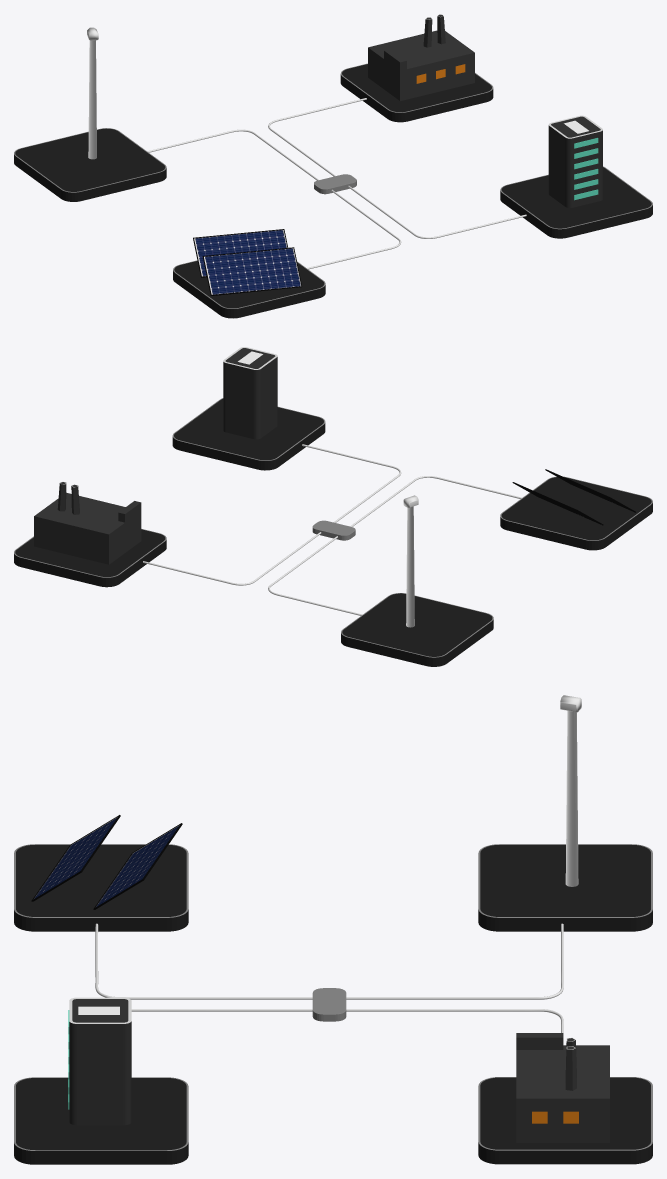
3 renders of one model, top to bottom at view 1: azimuth 30°, elevation 25°; view 2: azimuth 150°, elevation 25°; view 3: azimuth 270°, elevation 25°, orthographic. The views are drawn at different scales.
Parts seen in each view (by area): view 1: Cube.004, Cube.006, Cube.002, Cube.003, Object_2, Cube.005, Cube.001, Object_2.001, Windturbine Support, Cube.007, BézierCurve.003, BézierCurve (+2 smaller); view 2: Cube.004, Cube.001, Cube.006, Cube.002, Cube.003, Cube.005, Windturbine Support, Cube.007, BézierCurve.001; view 3: Cube.004, Cube.001, Cube.002, Cube.006, Cube.005, Cube.003, Windturbine Support, Object_2.001, Object_2, Cube.007, BézierCurve, BézierCurve.002 (+1 smaller).
Part boxes in pixels (box(x1,y1,x2,y2)): Cube.004: box(14, 128, 166, 201); Cube.006: box(368, 14, 474, 100); Cube.002: box(500, 166, 652, 238); Cube.003: box(548, 115, 602, 207); Object_2: box(202, 247, 302, 295); Cube.005: box(340, 63, 493, 122); Cube.001: box(173, 260, 325, 318); Object_2.001: box(193, 229, 288, 277); Windturbine Support: box(87, 27, 98, 159); Cube.007: box(314, 174, 356, 194); BézierCurve.003: box(348, 186, 526, 238); BézierCurve: box(147, 129, 318, 180); Cube.004: box(341, 593, 493, 666); Cube.001: box(500, 476, 652, 550); Cube.006: box(34, 481, 141, 564); Cube.002: box(172, 398, 325, 470); Cube.003: box(223, 347, 277, 439); Cube.005: box(14, 529, 166, 587); Windturbine Support: box(403, 495, 418, 627); Cube.007: box(312, 520, 355, 540); BézierCurve.001: box(143, 532, 321, 585); Cube.004: box(478, 844, 652, 931); Cube.001: box(14, 844, 188, 931); Cube.002: box(14, 1077, 188, 1164); Cube.006: box(516, 1033, 609, 1142); Cube.005: box(478, 1077, 652, 1164); Cube.003: box(68, 997, 131, 1125); Windturbine Support: box(560, 695, 581, 886); Object_2.001: box(93, 823, 182, 909); Object_2: box(31, 815, 120, 901); Cube.007: box(312, 988, 346, 1021); BézierCurve: box(346, 923, 563, 999); BézierCurve.002: box(95, 923, 312, 999).
Size of the model in its own units: 6.43 by 1.95 by 5.66.
10 materials, 1 textured.
